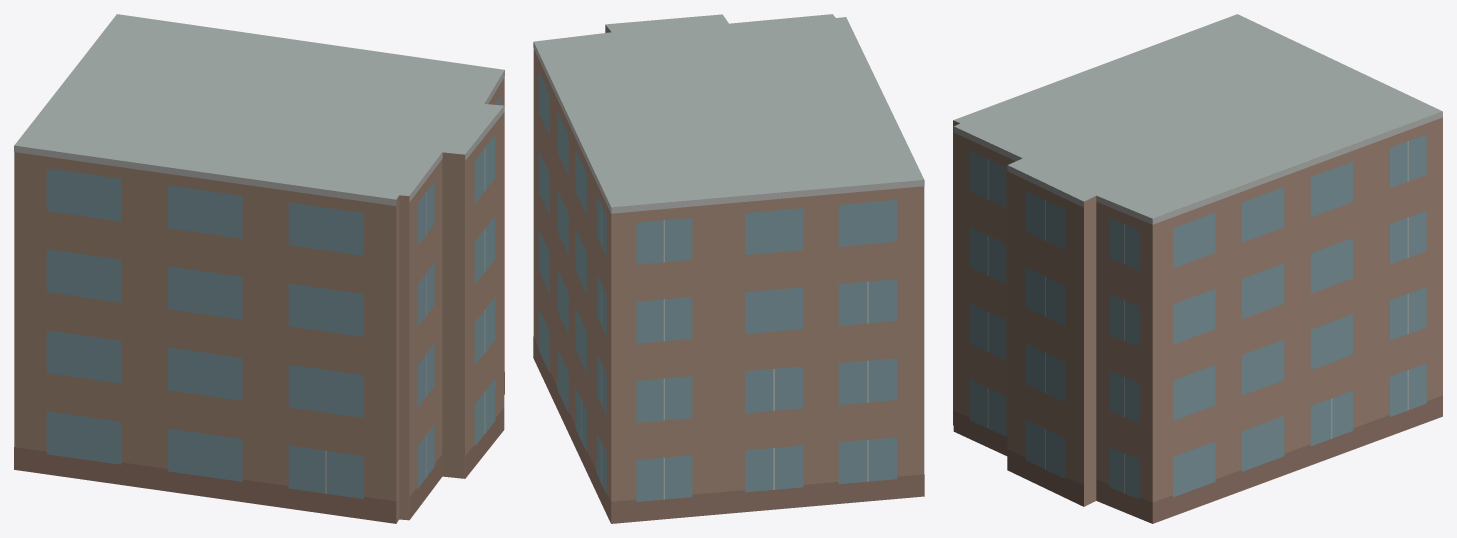
The model's file is survey-upis-32626345.glb.
3 views of the same model, side by side, from view 1: azimuth 30°, elevation 25°; view 2: azimuth 150°, elevation 25°; view 3: azimuth 270°, elevation 25° (orthographic). The views are drawn at different scales.
Parts seen in each view (by area): view 1: survey-upis-32626345.tmp; view 2: survey-upis-32626345.tmp; view 3: survey-upis-32626345.tmp.
Boxes of the visible parts, box(x1,y1,x2,y2) form: survey-upis-32626345.tmp: box(14, 14, 504, 523); survey-upis-32626345.tmp: box(533, 14, 924, 523); survey-upis-32626345.tmp: box(953, 14, 1442, 523).
Size of the model in its own units: 17.56 by 12.2 by 17.75.
